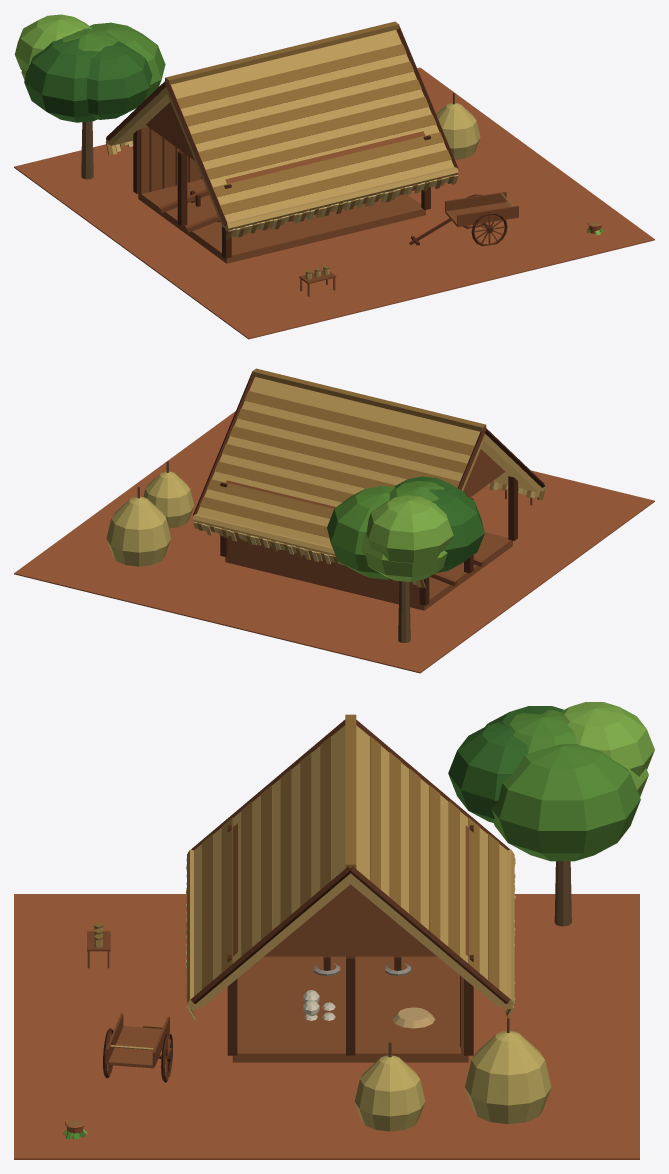
The model's file is factory_3.glb.
3 renders of one model, top to bottom at view 1: azimuth 30°, elevation 25°; view 2: azimuth 150°, elevation 25°; view 3: azimuth 270°, elevation 25°, orthographic. The views are drawn at different scales.
Parts seen in each view (by area): view 1: body; view 2: body; view 3: body.
Boxes of the visible parts, x1,y1,x2,y2 form: body: [14, 14, 654, 339]; body: [14, 368, 654, 673]; body: [14, 702, 654, 1159].
Bounding box in the file's own units: 16.62 × 6.19 × 16.28.
